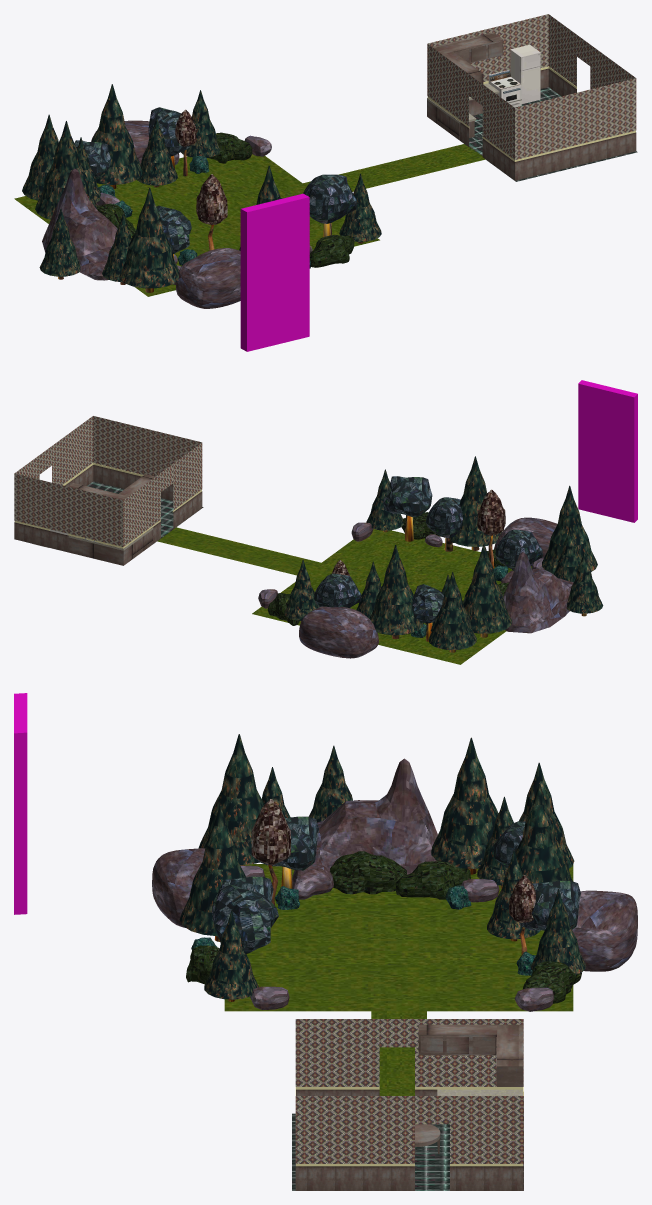
Rendered from environ-01-yard-kitchen-test3.glb.
3 renders of one model, top to bottom at view 1: azimuth 30°, elevation 25°; view 2: azimuth 150°, elevation 25°; view 3: azimuth 270°, elevation 25°, orthographic. The views are drawn at different scales.
Visible parts, largest first — view 1: w-house-interior-upper, _doortemplate, ground, wall.rock_lg, wall.pinetree04, wall.rocklg02.001, Plane, wall.pinetree.001, wall-house-interior-lower-east.001, wall.pinetree, wall.tree03, cabinet (+23 smaller); view 2: w-house-interior-upper, ground, _doortemplate, wall.rock_lg, wall.rocklg02, Plane, wall.pinetree.001, wall.pinetree, wall.pinetree.002, wall.pinetree04, wall.pinetree04.001, wall.tree03 (+21 smaller); view 3: ground, w-house-interior-upper, wall.rock_lg, wall.pinetree, wall.rocklg02, cabinet, wall.pinetree04, wall.pinetree04.001, _doortemplate, wall.pinetree.001, wall-house-interior-lower-northR.001, wall.tree03 (+26 smaller).
Boxes of the visible parts, x1,y1,x2,y2 form: w-house-interior-upper: [427, 14, 636, 159]; _doortemplate: [240, 193, 309, 351]; ground: [14, 154, 379, 296]; wall.rock_lg: [42, 168, 117, 280]; wall.pinetree04: [119, 187, 178, 288]; wall.rocklg02.001: [176, 248, 240, 308]; Plane: [303, 144, 485, 191]; wall.pinetree.001: [91, 84, 142, 184]; wall-house-interior-lower-east.001: [515, 132, 636, 180]; wall.pinetree: [35, 121, 96, 219]; wall.tree03: [303, 174, 357, 223]; cabinet: [432, 32, 503, 84]; w-house-interior-upper: [14, 416, 202, 546]; ground: [252, 529, 531, 664]; _doortemplate: [578, 380, 637, 522]; wall.rock_lg: [503, 552, 573, 633]; wall.rocklg02: [299, 606, 378, 658]; Plane: [157, 527, 322, 575]; wall.pinetree.001: [369, 544, 423, 635]; wall.pinetree: [463, 543, 511, 633]; wall.pinetree.002: [428, 571, 476, 650]; wall.pinetree04: [542, 485, 597, 573]; wall.pinetree04.001: [448, 456, 501, 546]; wall.tree03: [383, 476, 432, 517]; ground: [224, 864, 573, 1011]; w-house-interior-upper: [295, 1019, 523, 1163]; wall.rock_lg: [292, 758, 437, 874]; wall.pinetree: [431, 737, 498, 868]; wall.rocklg02: [572, 890, 637, 971]; cabinet: [418, 1024, 523, 1086]; wall.pinetree04: [198, 734, 264, 864]; wall.pinetree04.001: [179, 805, 245, 936]; _doortemplate: [14, 693, 27, 914]; wall.pinetree.001: [515, 783, 572, 883]; wall-house-interior-lower-northR.001: [295, 1166, 414, 1190]; wall.tree03: [213, 884, 278, 953].
Bounding box in the file's own units: 70.19 × 17.18 × 50.4.
Materials: 18 (17 with a texture image).
